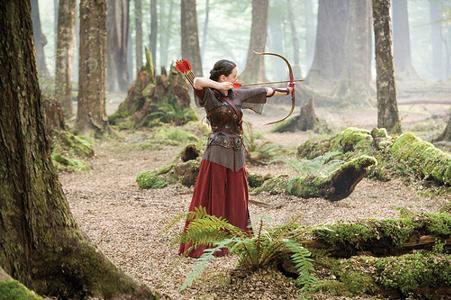person: (179, 61, 296, 258)
